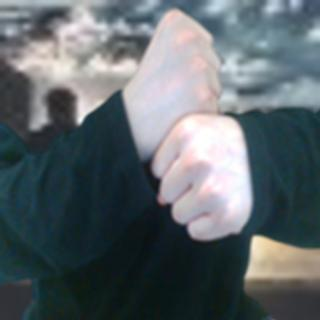CAREFUL: (123, 5, 253, 246)
